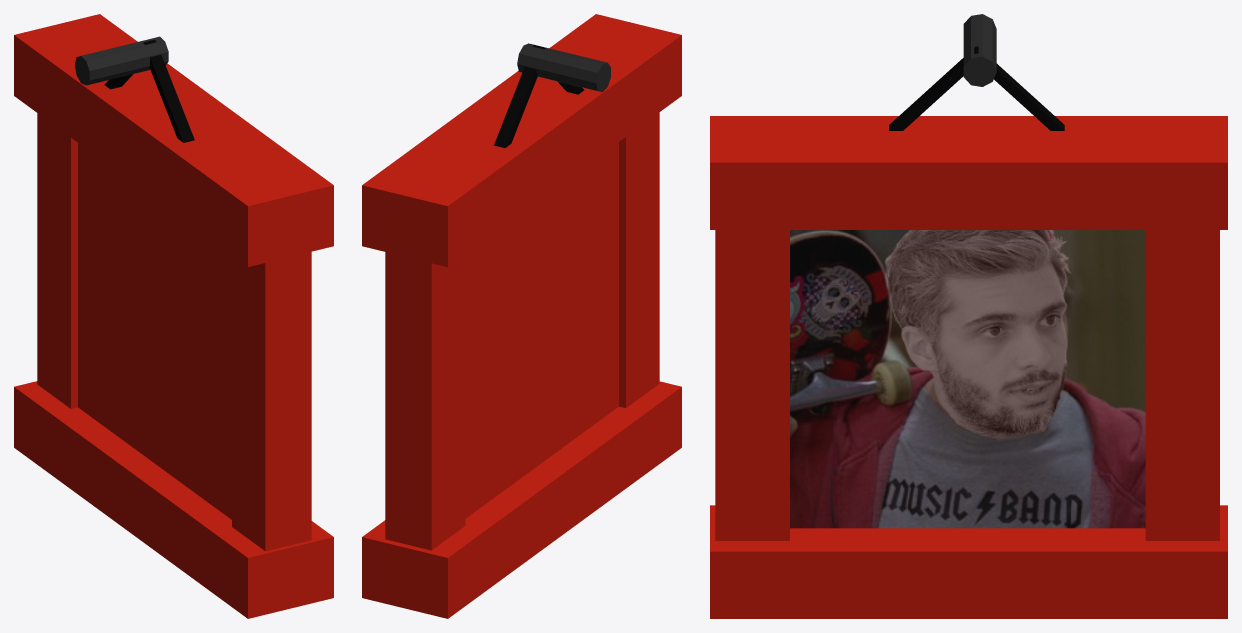
File: easterEgg.obj
3 renders of one model, left to right at view 1: azimuth 30°, elevation 25°; view 2: azimuth 150°, elevation 25°; view 3: azimuth 270°, elevation 25°, orthographic. The views are drawn at different scales.
Parts seen in each view (by area): view 1: Cube.006_Cube.007, Cube.003_Cube.004, Cube, Cube.001_Cube.002, Cube.002_Cube.003, Cylinder, Cube.004_Cube.005; view 2: Cube.006_Cube.007, Cube.003_Cube.004, Cube, Cube.002_Cube.003, Cube.001_Cube.002, Cylinder, Cube.005_Cube.006; view 3: Plane, Cube.003_Cube.004, Cube, Cube.001_Cube.002, Cube.002_Cube.003, Cylinder, Cube.004_Cube.005, Cube.005_Cube.006.
Boxes of the visible parts, x1,y1,x2,y2 form: Cube.006_Cube.007: [78, 143, 231, 519]; Cube.003_Cube.004: [14, 14, 333, 266]; Cube: [14, 381, 333, 618]; Cube.001_Cube.002: [232, 251, 311, 551]; Cube.002_Cube.003: [37, 113, 77, 408]; Cylinder: [75, 36, 168, 85]; Cube.004_Cube.005: [144, 40, 194, 142]; Cube.006_Cube.007: [465, 142, 618, 518]; Cube.003_Cube.004: [362, 14, 681, 266]; Cube: [362, 381, 681, 618]; Cube.002_Cube.003: [385, 252, 465, 550]; Cube.001_Cube.002: [619, 112, 659, 407]; Cylinder: [517, 43, 610, 92]; Cube.005_Cube.006: [494, 45, 544, 147]; Plane: [790, 230, 1145, 528]; Cube.003_Cube.004: [710, 116, 1227, 229]; Cube: [710, 505, 1227, 618]; Cube.001_Cube.002: [715, 230, 789, 540]; Cube.002_Cube.003: [1145, 230, 1219, 540]; Cylinder: [963, 14, 996, 86]; Cube.004_Cube.005: [889, 46, 976, 130]; Cube.005_Cube.006: [977, 46, 1064, 130].
Bounding box in the file's own units: 0.5757 × 2.05 × 1.8.
